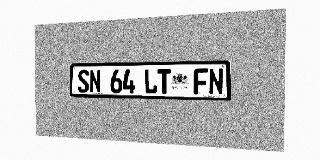4: (123, 69, 135, 93)
6: (110, 69, 122, 93)
F: (194, 68, 208, 95)
L: (144, 69, 157, 94)
N: (208, 68, 223, 95), (89, 69, 101, 93)
S: (78, 70, 89, 93)
T: (158, 69, 171, 94)
